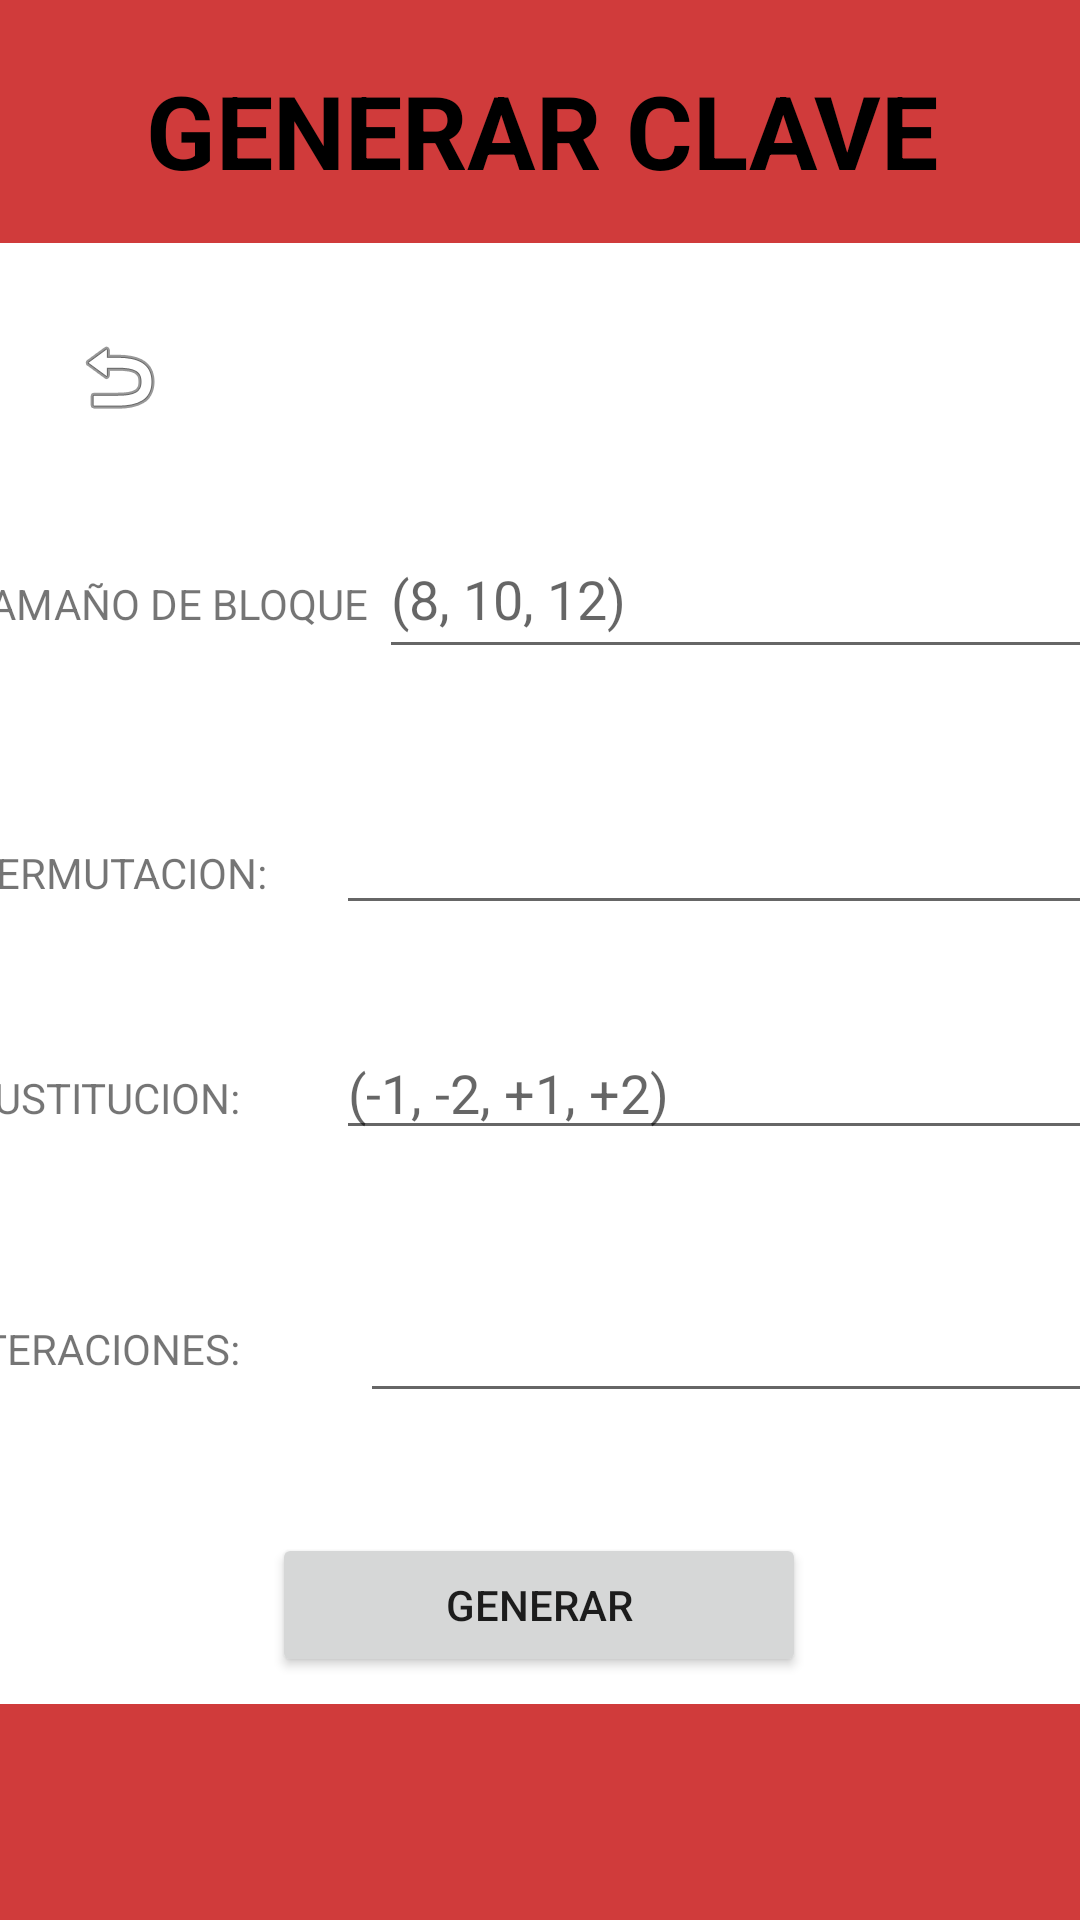

Icons on this 1080×1920 Android screen, each with the point to tap as (x,y):
revert: (120,377)
